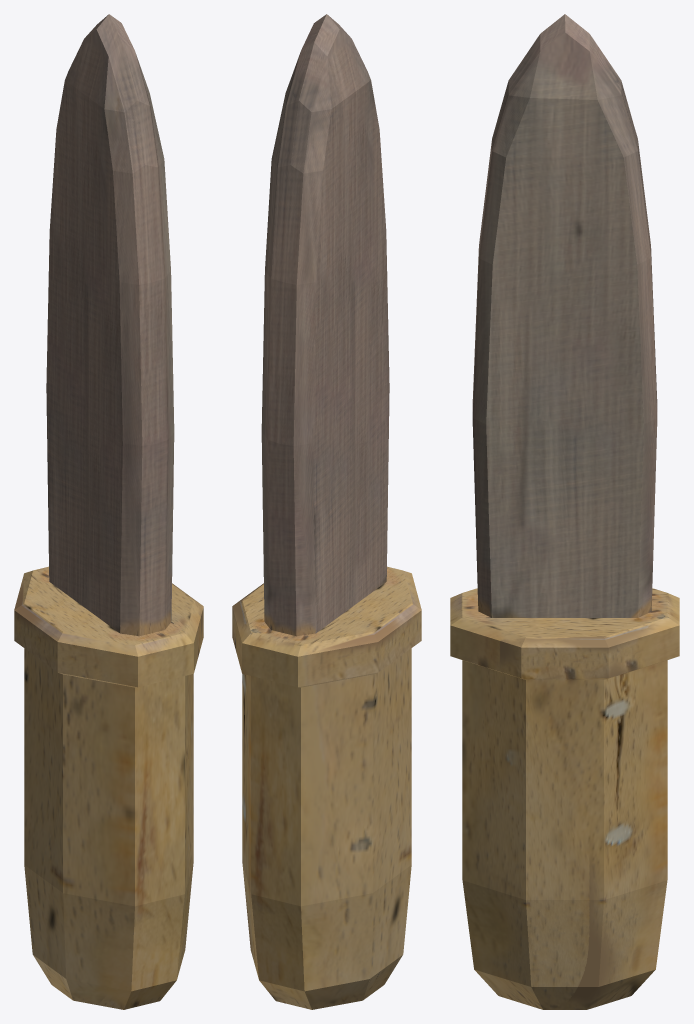
The model's file is CUCHILLO texturizado.fbx.
3 renders of one model, left to right at view 1: azimuth 30°, elevation 25°; view 2: azimuth 150°, elevation 25°; view 3: azimuth 270°, elevation 25°, orthographic.
Visible parts, largest first — view 1: Cube.001; view 2: Cube.001; view 3: Cube.001.
Boxes of the visible parts, left/top/right/bottom form: Cube.001: left=14, top=14, right=203, bottom=1009; Cube.001: left=232, top=14, right=421, bottom=1009; Cube.001: left=450, top=14, right=679, bottom=1009.
Bounding box in the file's own units: 80.53 × 510 × 109.
